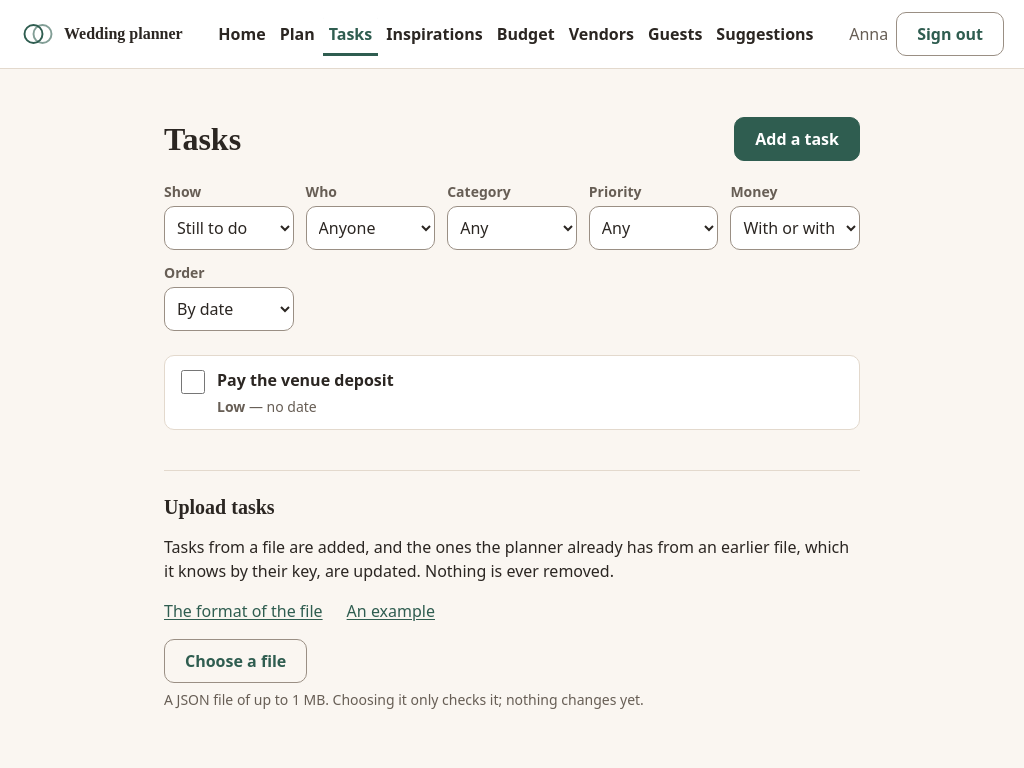
Scenario: the tasks › says so when a change could not be saved
This screenshot has width=1024, height=768.
Step 1. Click the checkbox named "Done: Pay the venue deposit" → click(193, 382), box [181,370,205,394]
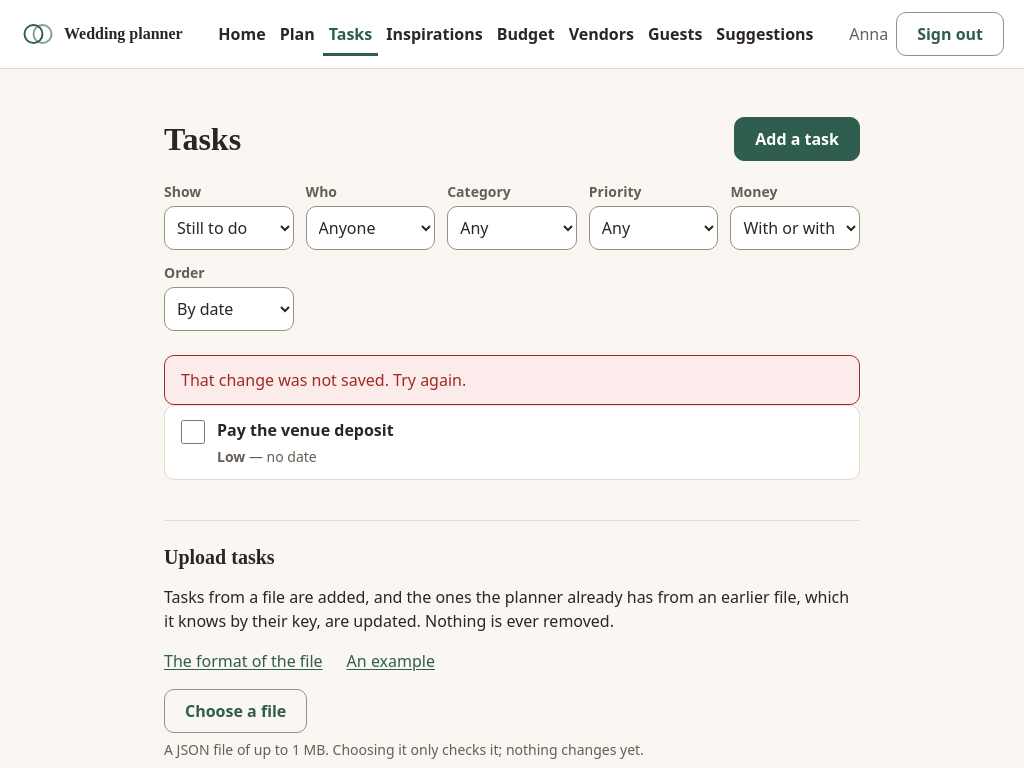
Expected: the checkbox named "Done: Pay the venue deposit" is not checked, [181,420,205,444]
Now the message reads "That change was not saved. Try again.", box [181,369,466,391]
